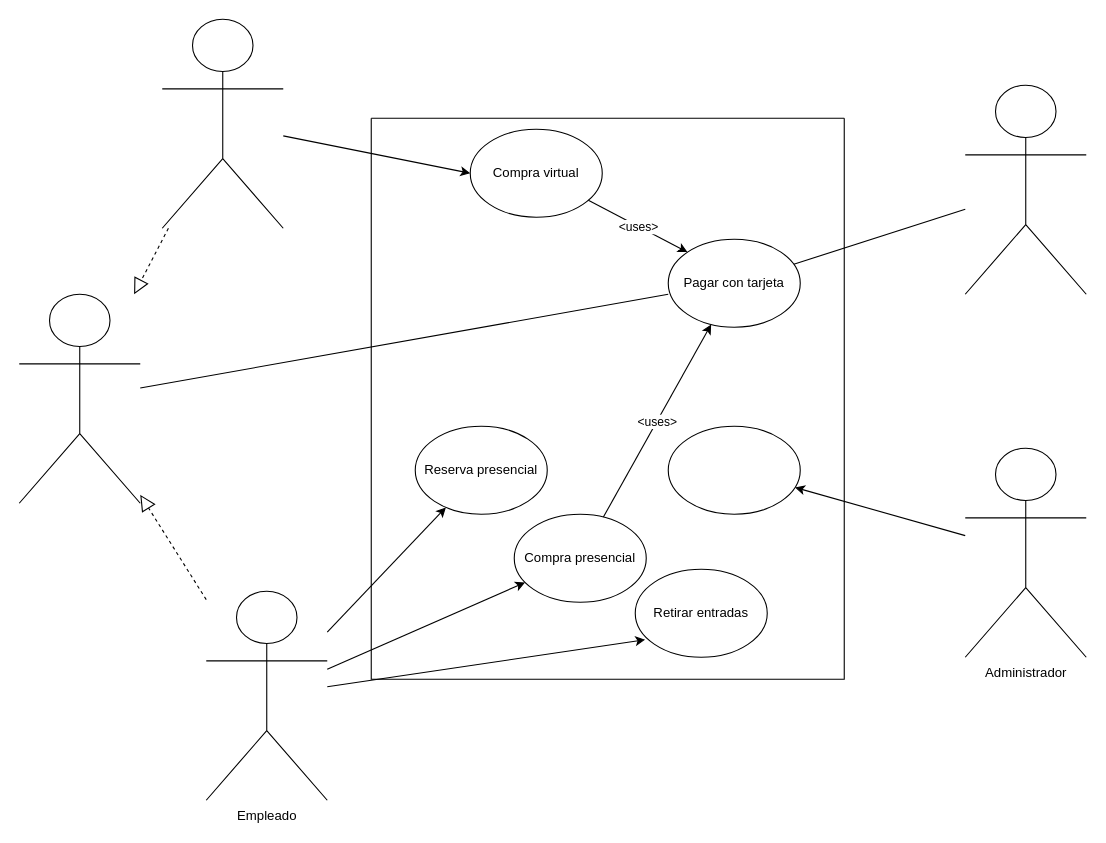
Some shapes in this 1106 by 843 pixel diagram are drawn without their labels. Each missing label, with the box of its shape:
Administrar programación: (667, 425, 800, 514)
Cliente: (161, 18, 283, 228)
Servidor bancario: (964, 84, 1086, 294)
Usuario: (18, 293, 140, 503)
